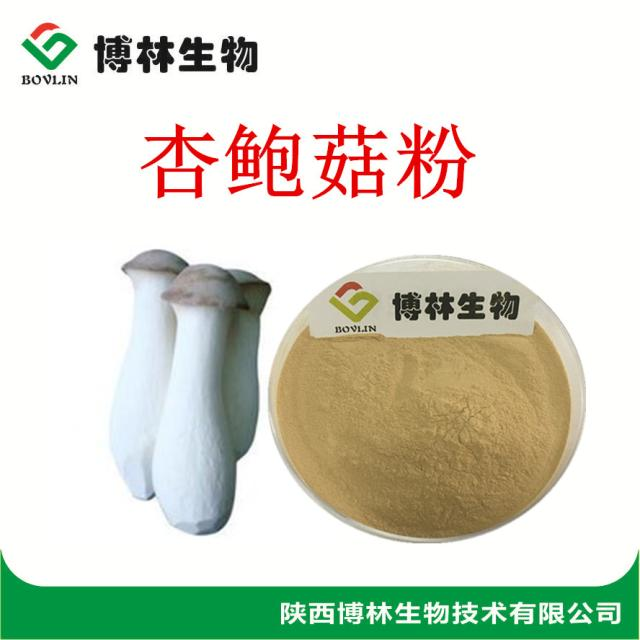Pleurotus eryngii: (113, 246, 270, 533)
